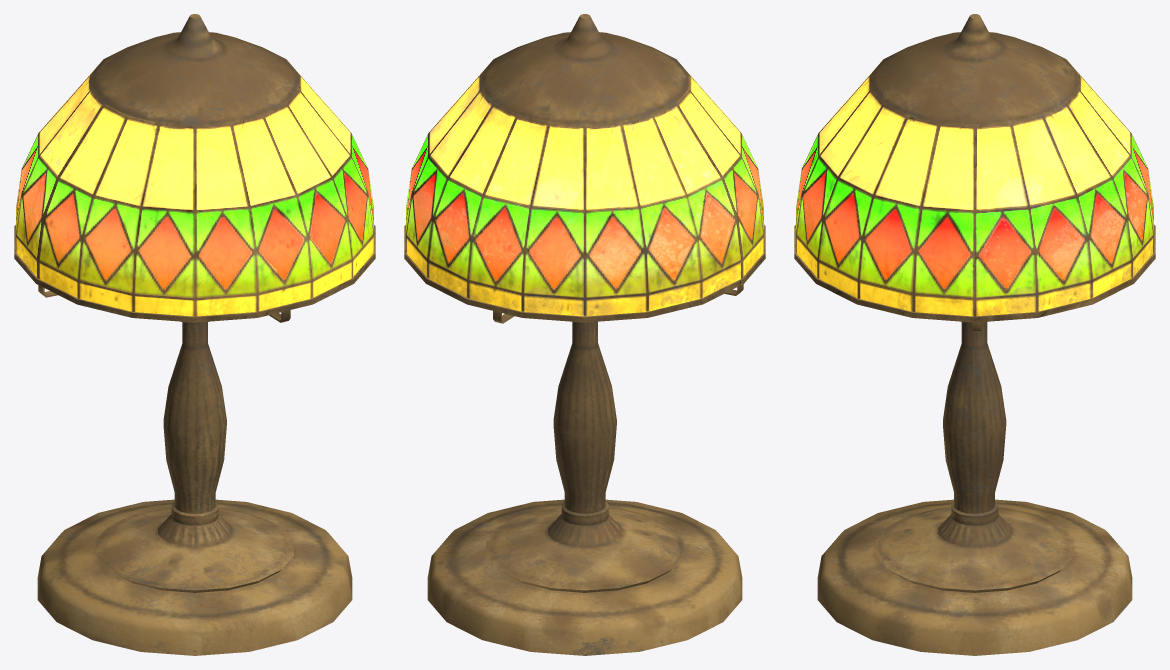
The model's file is retro_lamp.glb.
3 renders of one model, left to right at view 1: azimuth 30°, elevation 25°; view 2: azimuth 150°, elevation 25°; view 3: azimuth 270°, elevation 25°, orthographic.
Visible parts, largest first — view 1: Lamp; view 2: Lamp; view 3: Lamp.
Part boxes in pixels (x1,y1,x2,y2): Lamp: (14, 14, 375, 655); Lamp: (404, 14, 765, 655); Lamp: (794, 14, 1155, 655).
Bounding box in the file's own units: 0.4073 × 0.7007 × 0.4011.
Materials: 1 (1 with a texture image).
